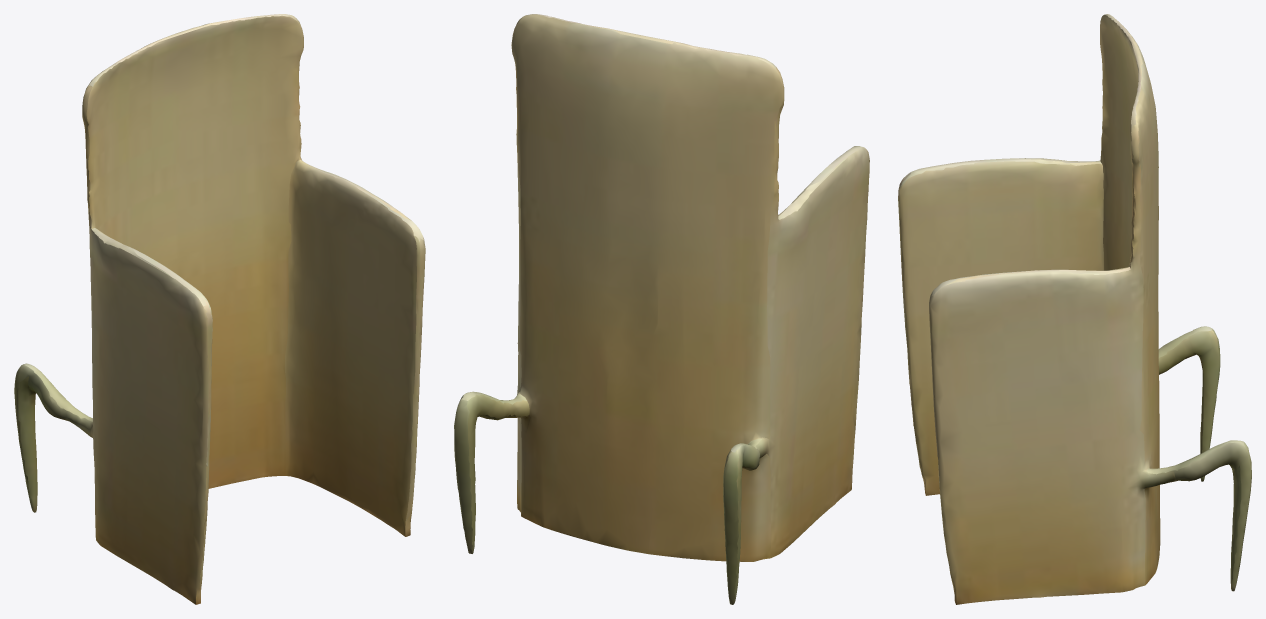
3 renders of one model, left to right at view 1: azimuth 30°, elevation 25°; view 2: azimuth 150°, elevation 25°; view 3: azimuth 270°, elevation 25°, orthographic. The views are drawn at different scales.
Visible parts, largest first — view 1: world; view 2: world; view 3: world.
Boxes of the visible parts, x1=… form: world: x1=14, y1=14, x2=425, y2=604; world: x1=454, y1=14, x2=869, y2=604; world: x1=898, y1=14, x2=1251, y2=604.
Bounding box in the file's own units: 0.2538 × 0.4236 × 0.2803.
Materials: 1 (1 with a texture image).
